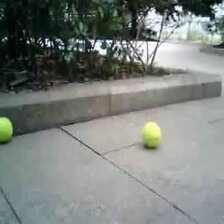tennis: (142, 122, 160, 147), (1, 115, 15, 143)
